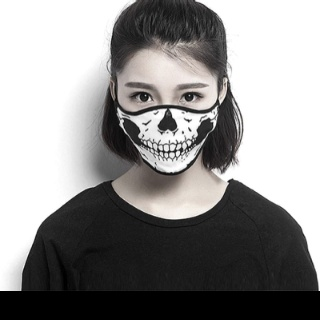with_mask: (115, 79, 220, 175)
